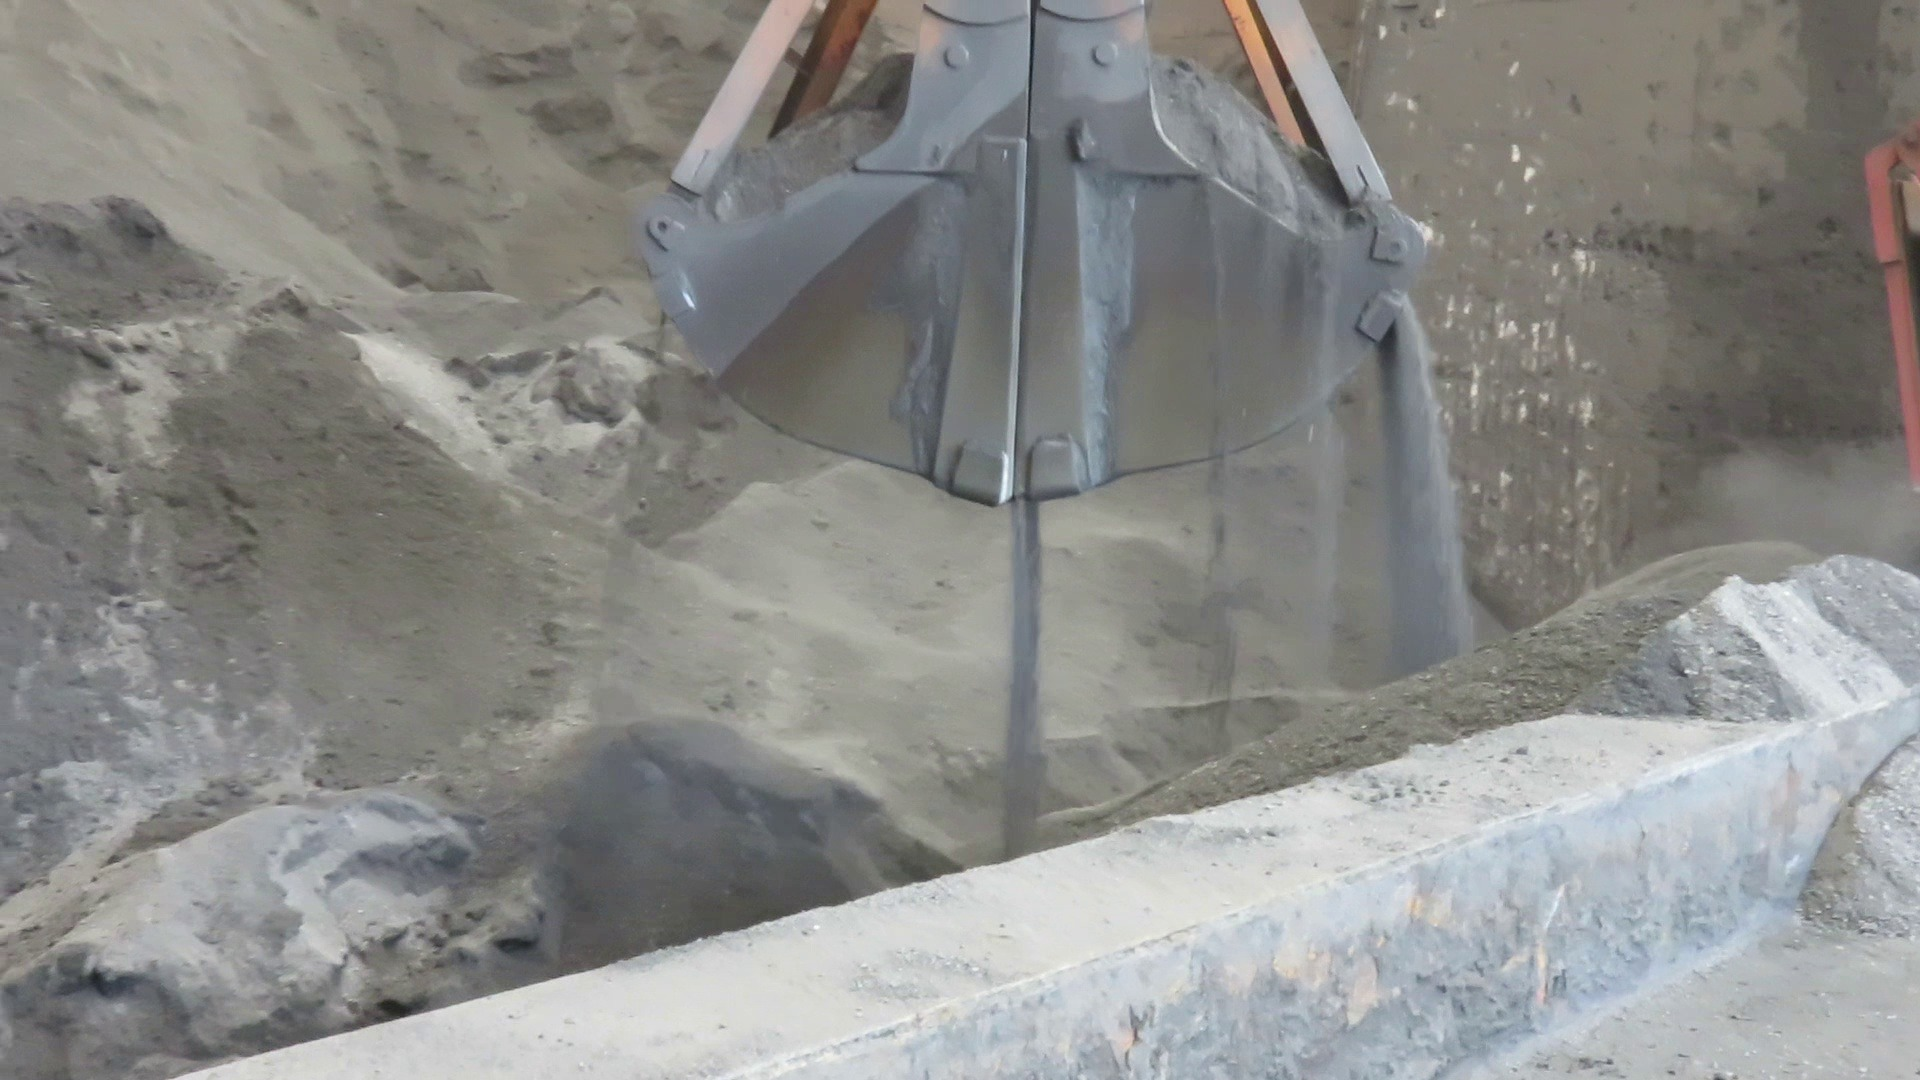grab: (630, 0, 1447, 512)
